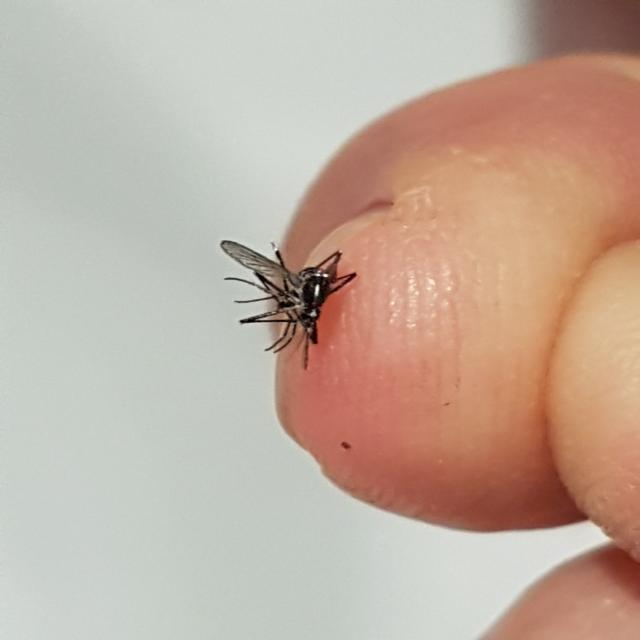albopictus: (220, 226, 360, 368)
